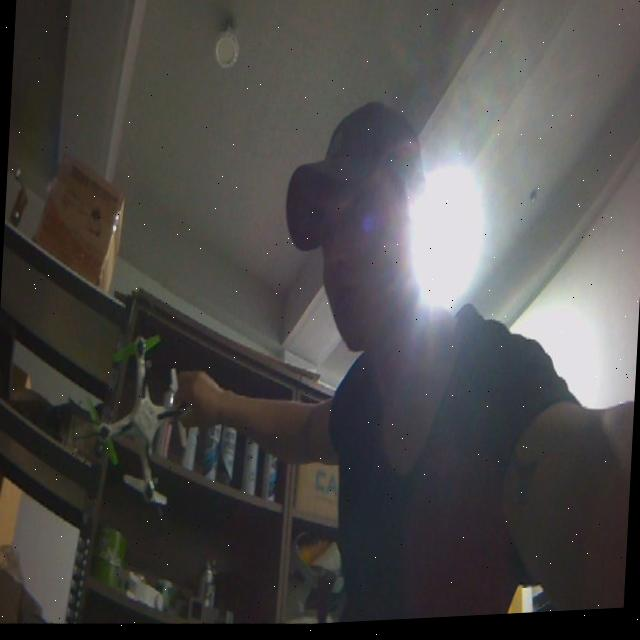drone: (64, 289, 208, 557)
